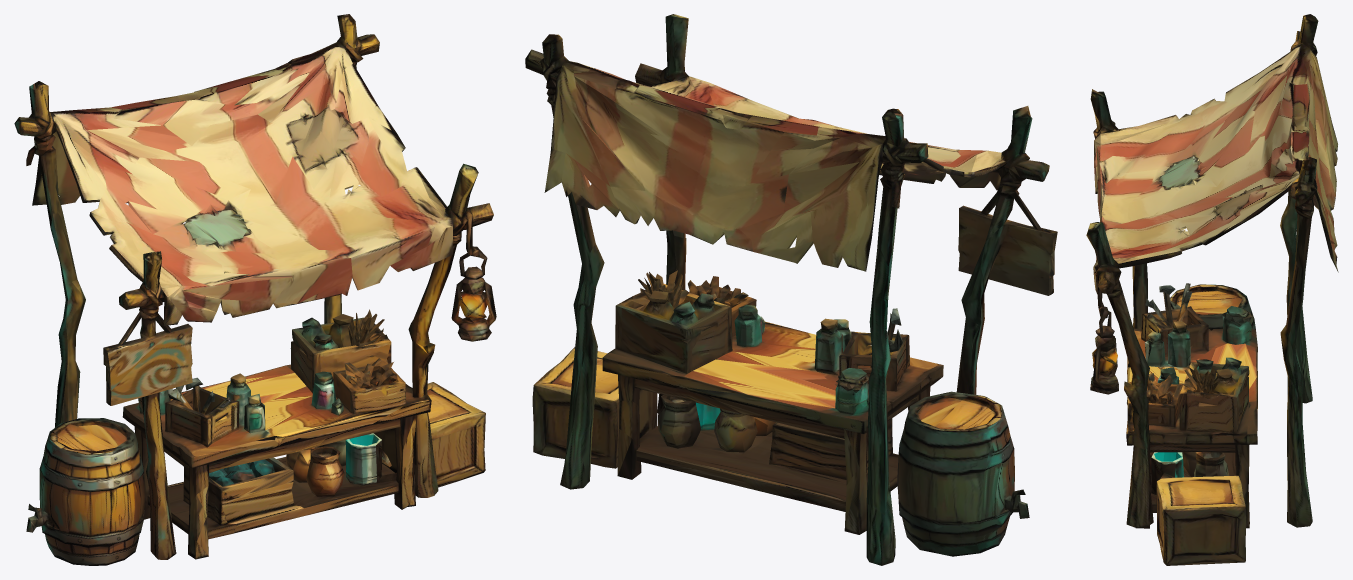
File: wl_market_stall.glb
The picture shows the model from 3 angles, left to right: view 1: azimuth 30°, elevation 25°; view 2: azimuth 150°, elevation 25°; view 3: azimuth 270°, elevation 25°; orthographic projection. The views are drawn at different scales.
Parts seen in each view (by area): view 1: wl_market_stall; view 2: wl_market_stall; view 3: wl_market_stall.
Part boxes in pixels (x1,y1,x2,y2): wl_market_stall: (14,14,496,565); wl_market_stall: (525,14,1057,565); wl_market_stall: (1086,14,1338,565).
Size of the model in its own units: 2.99 by 2.8 by 1.64.
1 material, 1 textured.
